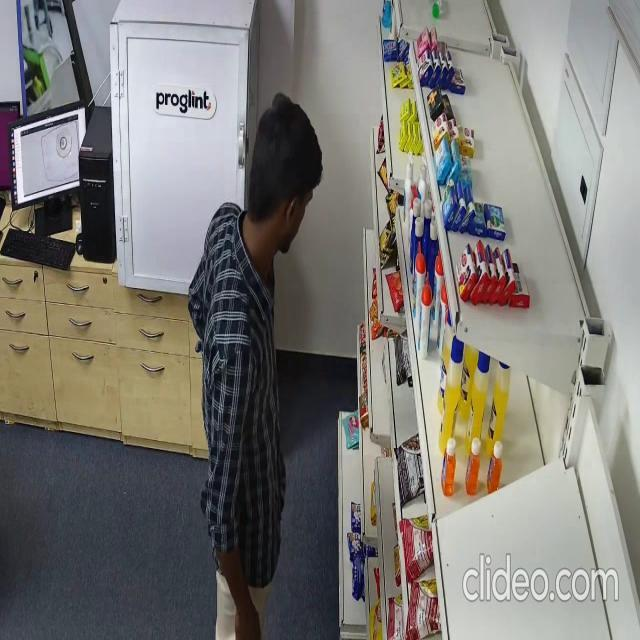Shoplifting: (191, 87, 323, 640)
